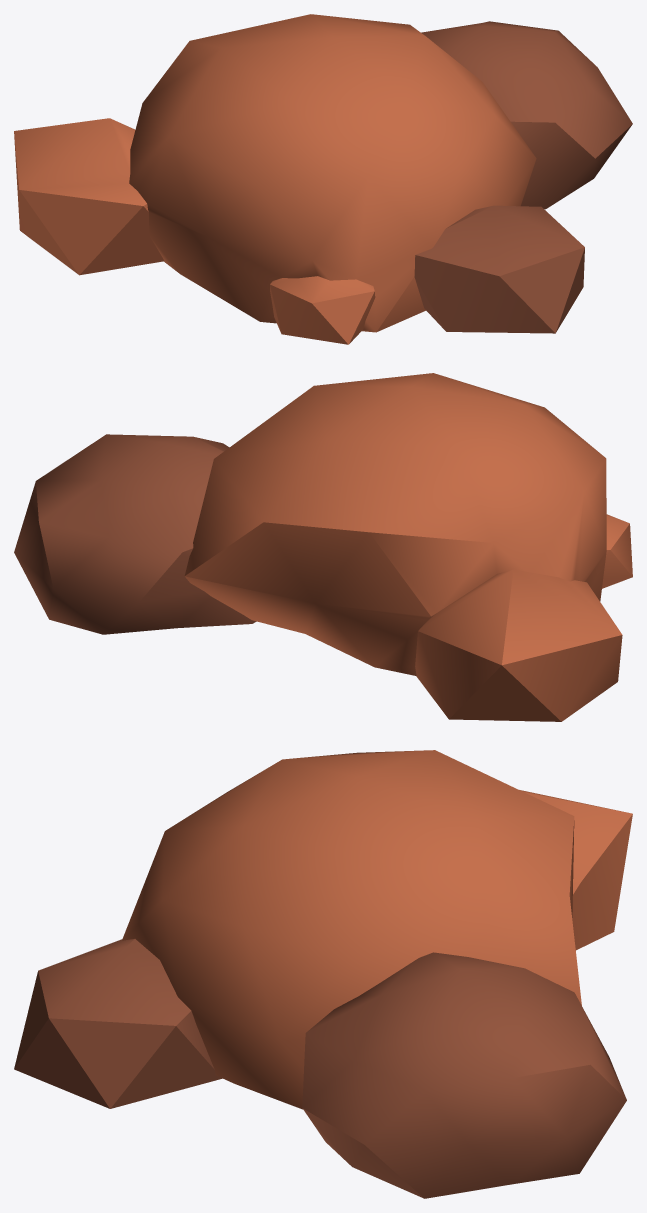
Rendered from RockCluster.fbx.
3 renders of one model, top to bottom at view 1: azimuth 30°, elevation 25°; view 2: azimuth 150°, elevation 25°; view 3: azimuth 270°, elevation 25°, orthographic. The views are drawn at different scales.
Parts seen in each view (by area): view 1: Rock, RockDark; view 2: Rock, RockDark; view 3: Rock, RockDark.
Part boxes in pixels (left/top/right/bottom): Rock: left=14, top=14, right=536, bottom=344; RockDark: left=414, top=21, right=632, bottom=333; Rock: left=184, top=373, right=632, bottom=721; RockDark: left=14, top=434, right=256, bottom=634; Rock: left=122, top=750, right=632, bottom=1109; RockDark: left=14, top=939, right=626, bottom=1198.
Bounding box in the file's own units: 13.3 × 4.89 × 10.75.
